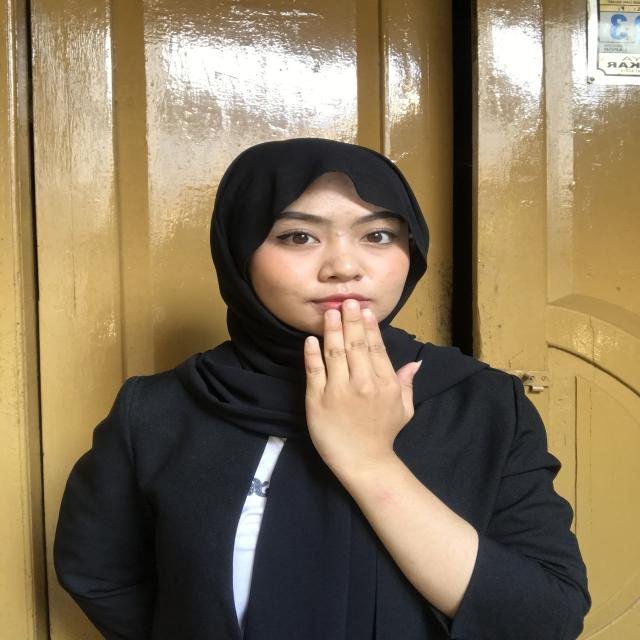ganteng: (284, 296, 444, 485)
